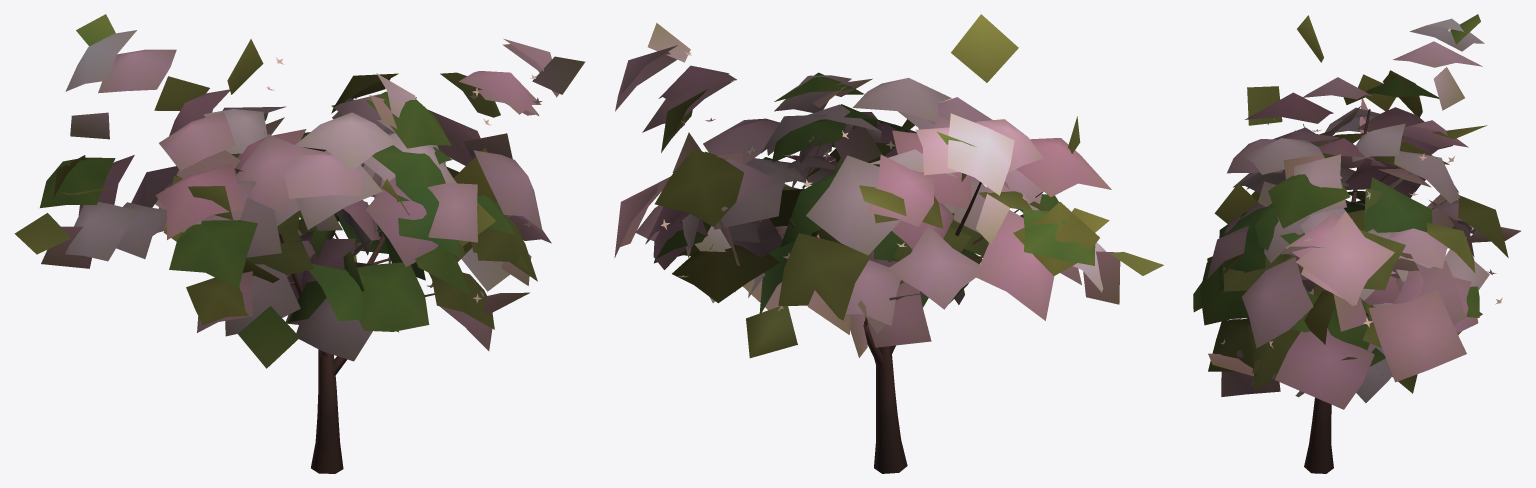
File: cherry-b.lod1.glb
The picture shows the model from 3 angles, left to right: view 1: azimuth 30°, elevation 25°; view 2: azimuth 150°, elevation 25°; view 3: azimuth 270°, elevation 25°; orthographic projection. The views are drawn at different scales.
Bounding box in the file's own units: 8.19 × 6.77 × 4.83.
